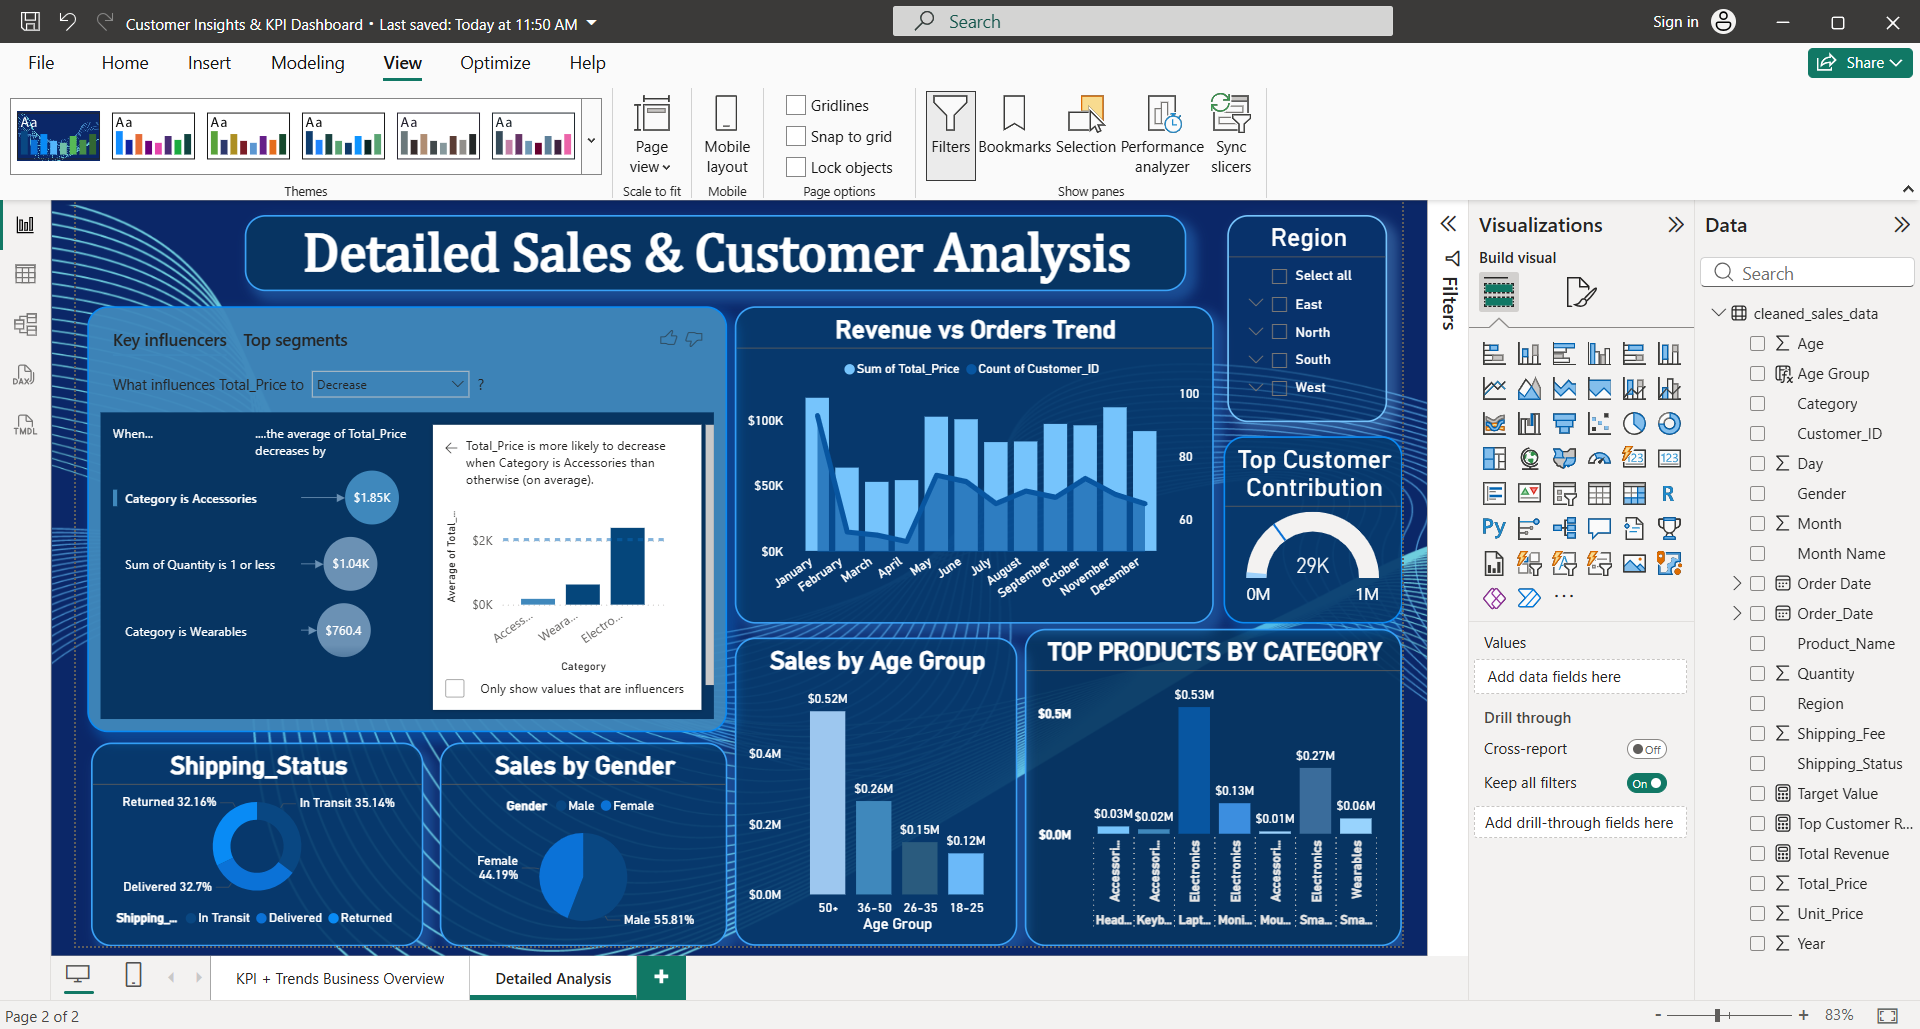

What the dashboard file says about the page in this screenshot:
{"tool":"powerbi","page":{"name":"Detailed Analysis","canvas":[1280,720],"ordinal":1},"visuals":[{"type":"textbox","title":"Detailed Sales & Customer Analysis","box":[162.9,14.5,908.4,73.6],"z":0},{"type":"clusteredColumnChart","title":"TOP PRODUCTS BY CATEGORY","fields":{"Category":["cleaned_sales_data.Product_Name","cleaned_sales_data.Category"],"Y":["Sum(cleaned_sales_data.Total_Price)"]},"box":[915.7,422.3,364.3,298],"z":1000},{"type":"pieChart","title":"Sales by Gender","fields":{"Category":["cleaned_sales_data.Gender"],"Y":["Sum(cleaned_sales_data.Total_Price)"]},"box":[351.1,523.6,277.5,196.6],"z":2000},{"type":"donutChart","title":"Shipping_Status","fields":{"Category":["cleaned_sales_data.Shipping_Status"],"Y":["Sum(cleaned_sales_data.Total_Price)"]},"box":[14.5,523.6,320.9,196.6],"z":3000},{"type":"columnChart","title":"Sales by  Age Group","fields":{"Category":["cleaned_sales_data.Age_Group"],"Y":["Sum(cleaned_sales_data.Total_Price)"]},"box":[635.8,422.3,272.7,298],"z":4000},{"type":"lineClusteredColumnComboChart","title":"Revenue vs Orders Trend","fields":{"Category":["cleaned_sales_data.Order Date.Variation.Date Hierarchy.Month"],"Y":["Sum(cleaned_sales_data.Total_Price)"],"Y2":["CountNonNull(cleaned_sales_data.Customer_ID)"]},"box":[635.8,114.6,462.1,294.4],"z":5000},{"type":"slicer","title":"Region","fields":{"Values":["cleaned_sales_data.Region","cleaned_sales_data.Category"]},"box":[1111.1,14.5,154.4,196.6],"z":6000},{"type":"gauge","title":"Top Customer Revenue Contribution","fields":{"TargetValue":["cleaned_sales_data.Target Value"],"Y":["cleaned_sales_data.Top Customer Revenue"],"MaxValue":["cleaned_sales_data.Total Revenue"]},"box":[1107.5,220.8,172.5,188.2],"z":7000},{"type":"keyDriversVisual","fields":{"Target":["cleaned_sales_data.Total_Price"],"ExplainBy":["cleaned_sales_data.Category","cleaned_sales_data.Age Group","cleaned_sales_data.Gender","cleaned_sales_data.Region","cleaned_sales_data.Shipping_Status","cleaned_sales_data.Order Date.Variation.Date Hierarchy.Month","Sum(cleaned_sales_data.Quantity)"]},"box":[10.9,114.6,617.7,399.3],"z":8000}]}

Visuals, with their boxes on the page's 1280x720 design canvas (x1, y1, x2, y2). These are canvas units, not pixel positions in the 1920x1029 screenshot, which may show the page scaled, cropped or inside an application window:
"Detailed Sales & Customer Analysis" textbox: region(163, 14, 1071, 88)
"TOP PRODUCTS BY CATEGORY" clusteredColumnChart: region(916, 422, 1280, 720)
"Sales by Gender" pieChart: region(351, 524, 629, 720)
"Shipping_Status" donutChart: region(14, 524, 335, 720)
"Sales by  Age Group" columnChart: region(636, 422, 908, 720)
"Revenue vs Orders Trend" lineClusteredColumnComboChart: region(636, 115, 1098, 409)
"Region" slicer: region(1111, 14, 1266, 211)
"Top Customer Revenue Contribution" gauge: region(1108, 221, 1280, 409)
keyDriversVisual - cleaned_sales_data.Total_Price x cleaned_sales_data.Category: region(11, 115, 629, 514)
